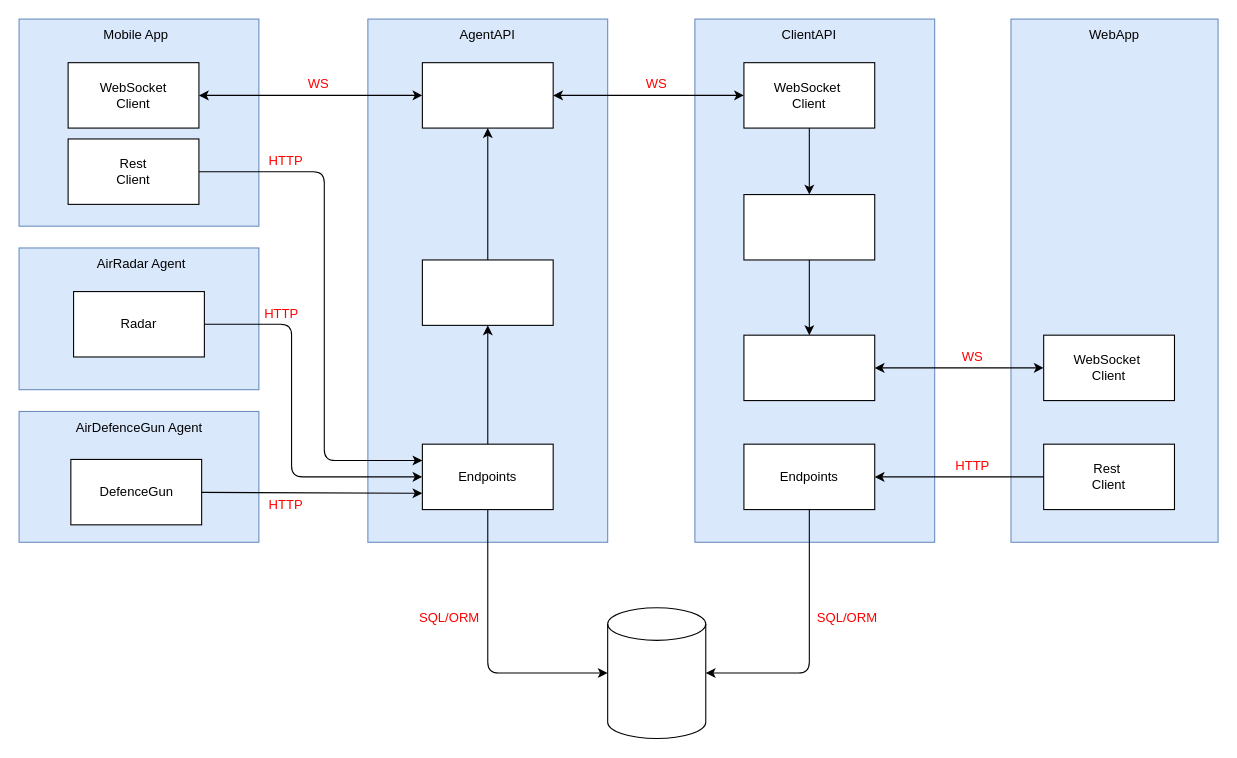
This 1237x758 diagram has some shape labels left out. Here are the shapes that lost their labels. From the top down, the centre of each, then its label:
At (487,95): "Agent HUB".
At (809,226): "Client Socket Service".
At (487,292): "Agent Socket Service".
At (809,367): "Client HUB".
At (656,672): "OepnCMS DB".
